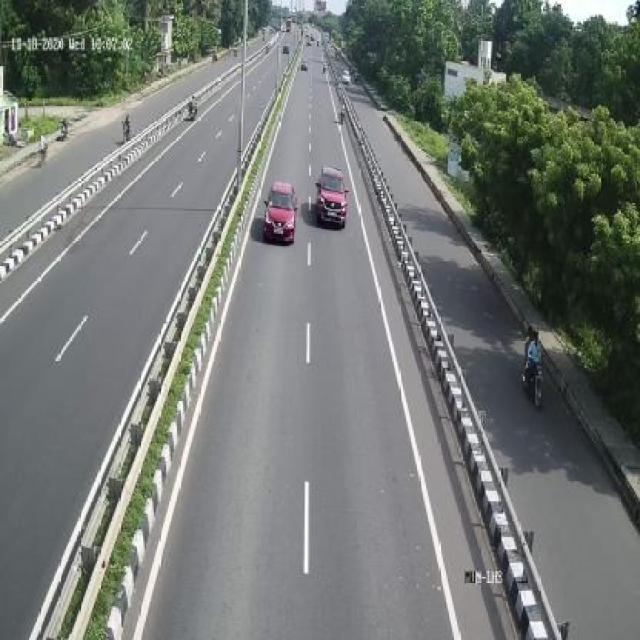car: (315, 160, 351, 231), (266, 176, 299, 247)
